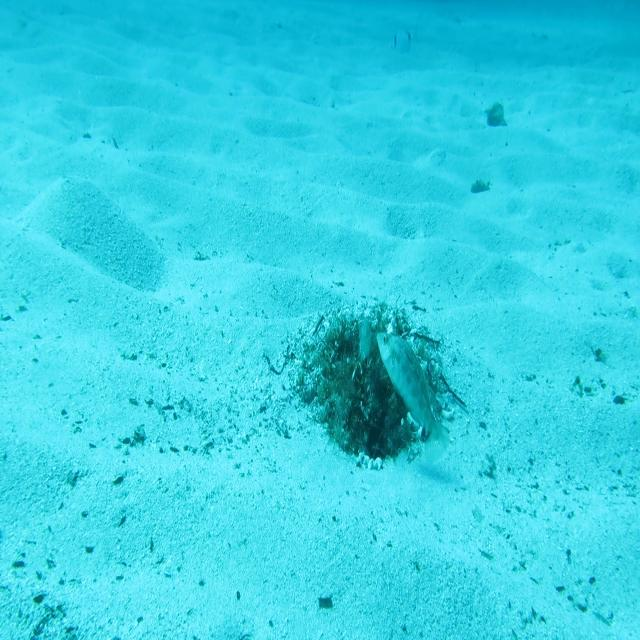LF: (376, 331, 453, 466)
female: (358, 317, 373, 371)
nest: (286, 291, 454, 474)
other_fish: (388, 24, 418, 55)
vegetation: (484, 100, 507, 127), (468, 177, 489, 197), (316, 589, 332, 614)
